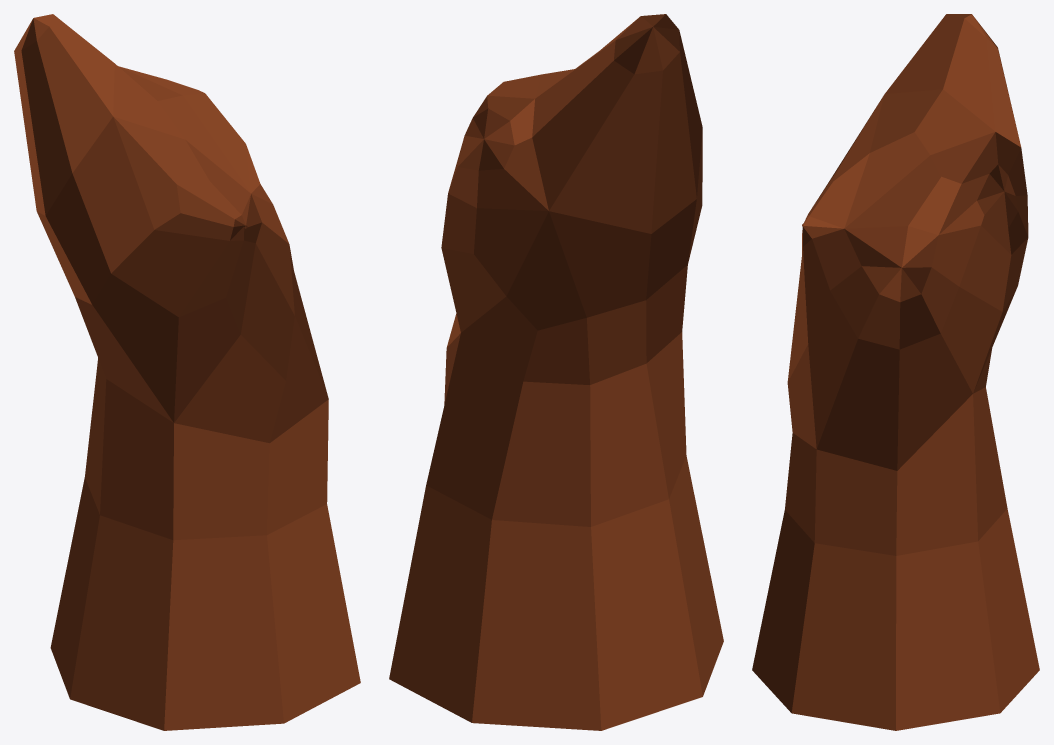
Rendered from Sprout.fbx.
3 views of the same model, side by side, from view 1: azimuth 30°, elevation 25°; view 2: azimuth 150°, elevation 25°; view 3: azimuth 270°, elevation 25° (orthographic). The views are drawn at different scales.
Parts seen in each view (by area): view 1: Tree; view 2: Tree; view 3: Tree.
Part boxes in pixels (box(x1,y1,x2,y2)): Tree: box(14, 14, 360, 730); Tree: box(389, 14, 723, 730); Tree: box(752, 14, 1039, 730).
Bounding box in the file's own units: 20.24 × 44.32 × 19.27.
